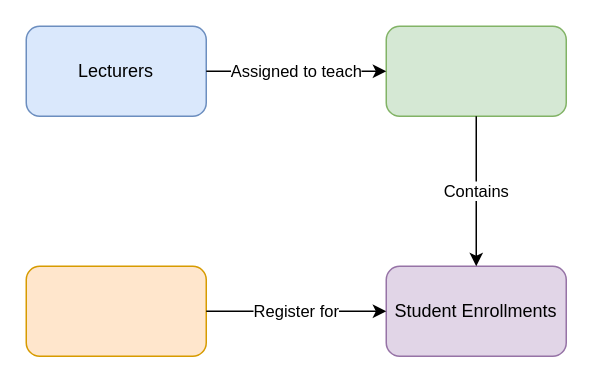
The diagram is 593 pixels wide and 383 high, and some of its shapes have lost their labels. Each missing label, with the centre of its shape:
"Courses" belongs at pixel 475 70.
"Students" belongs at pixel 115 310.
